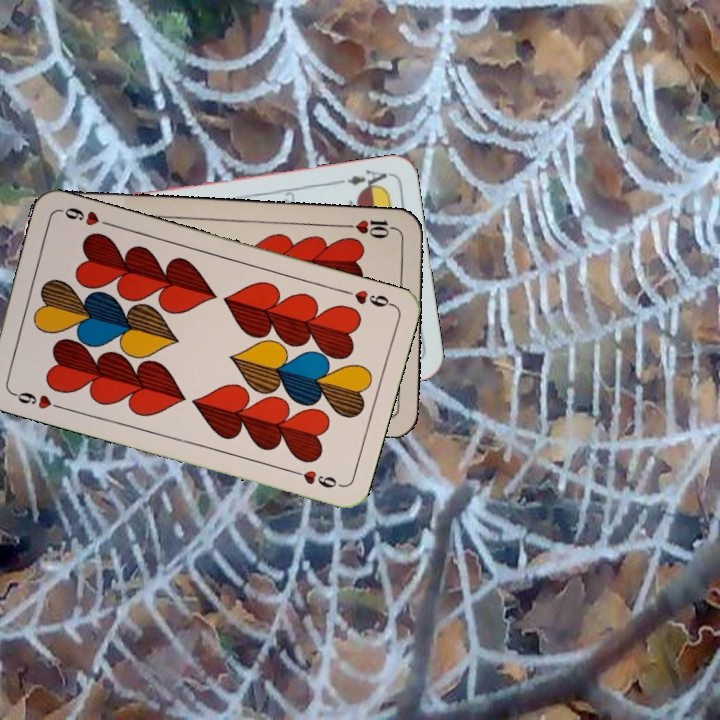EA: (332, 166, 390, 193)
H10: (342, 215, 401, 242)
H9: (337, 285, 395, 310), (6, 387, 64, 412)
